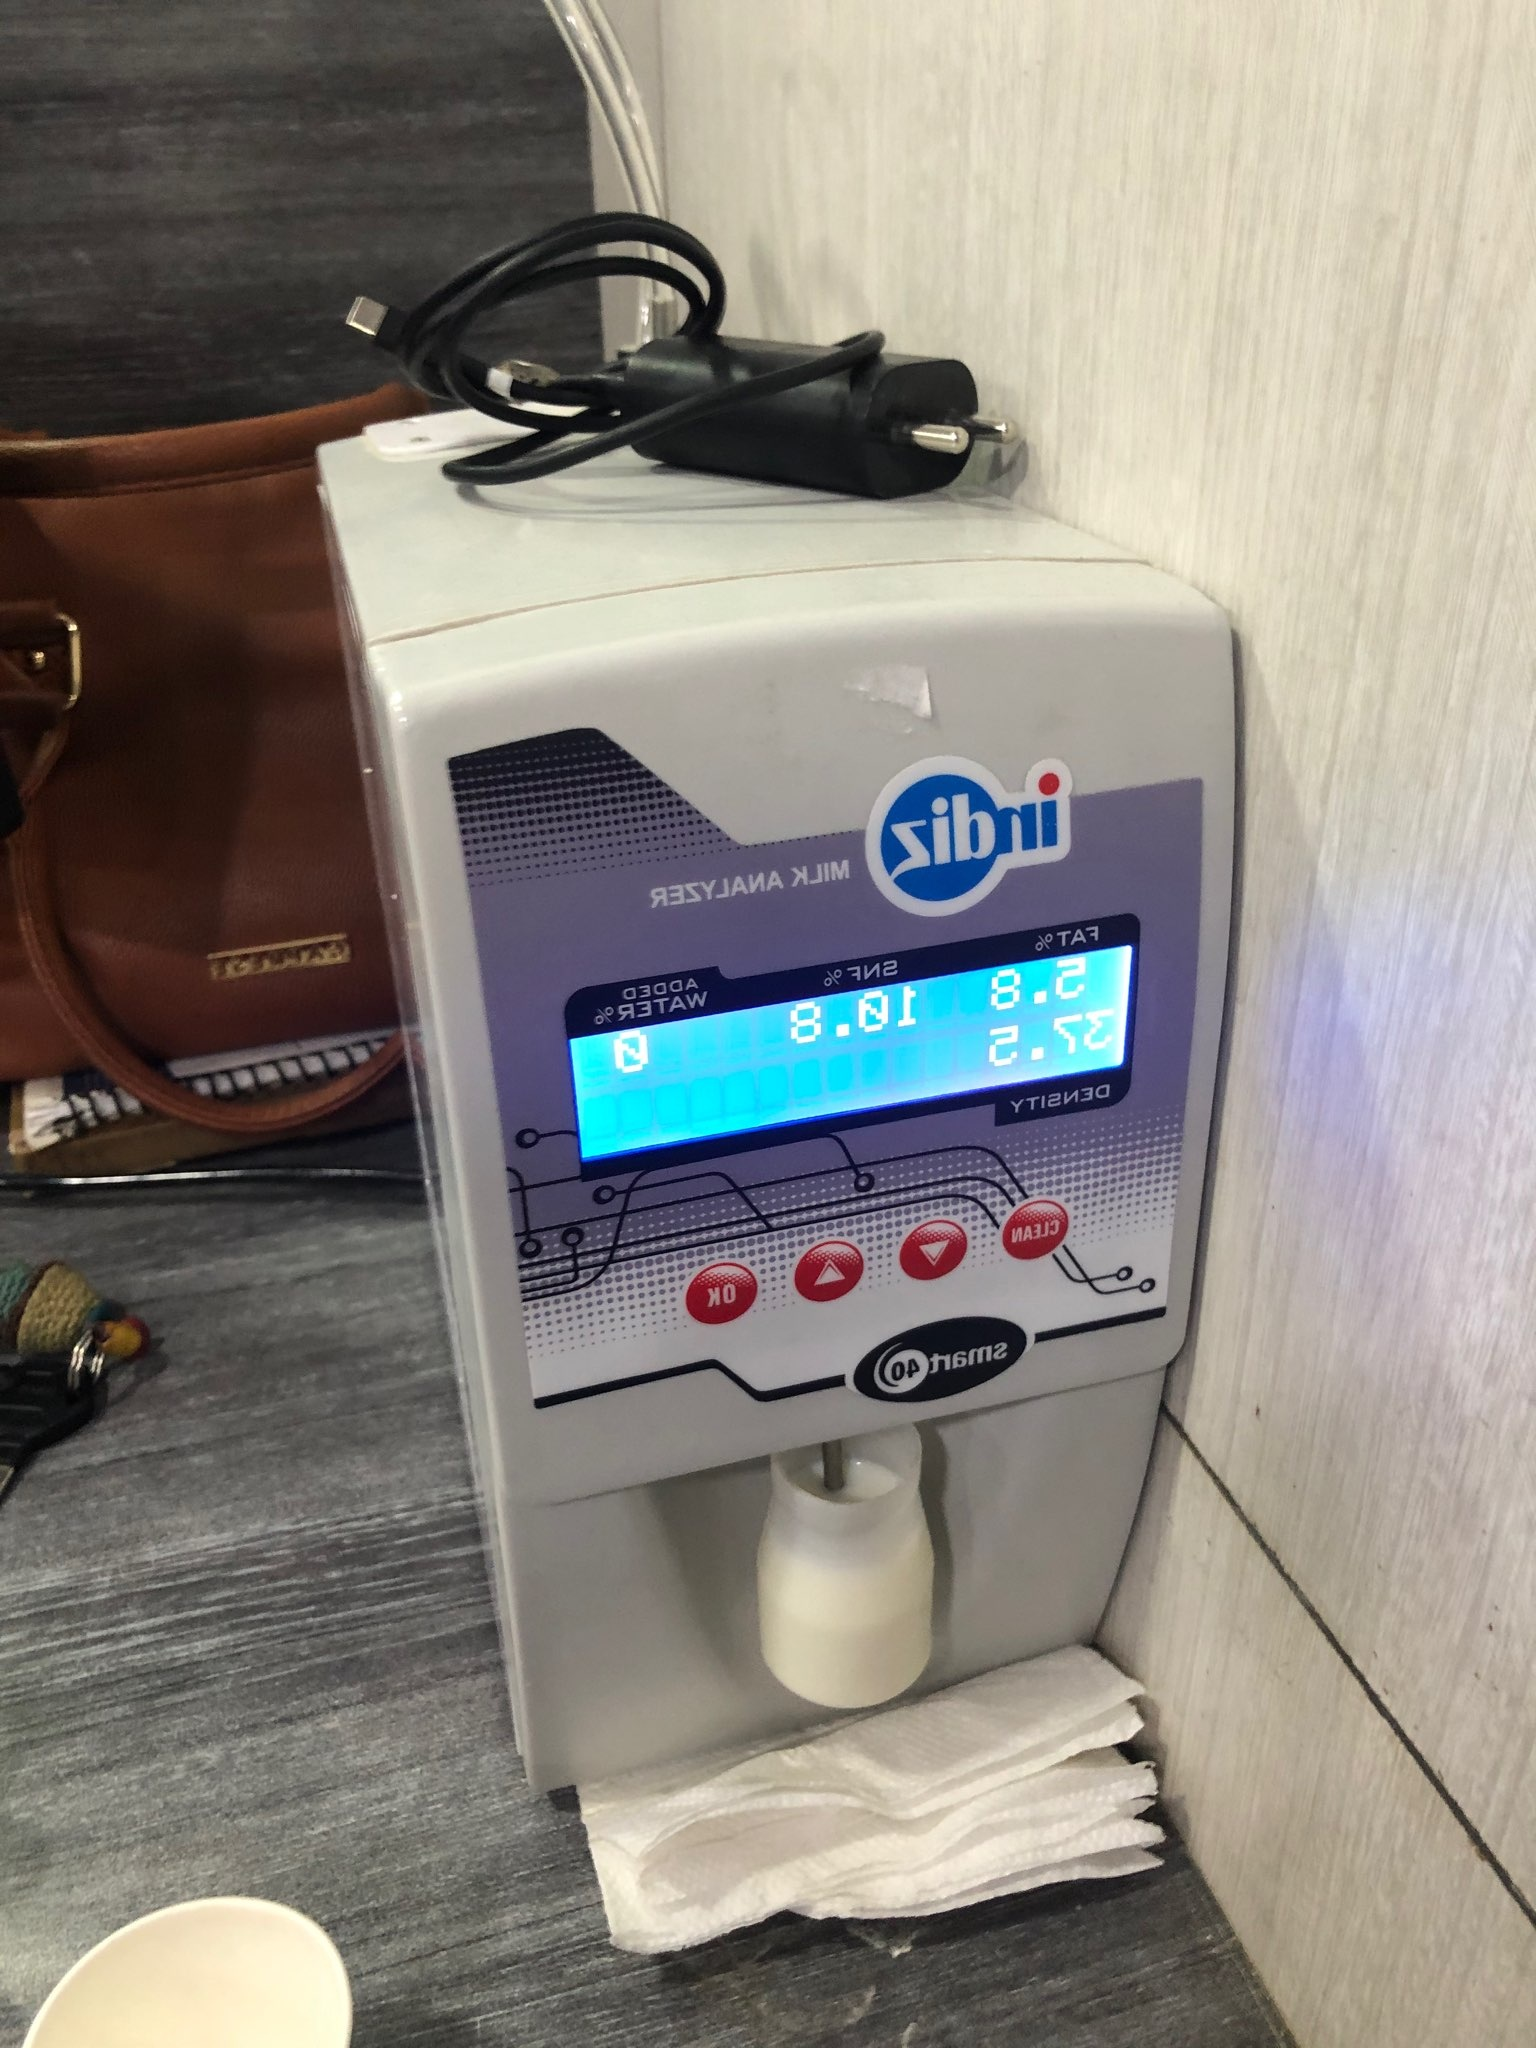lcd: (524, 908, 1167, 1164)
